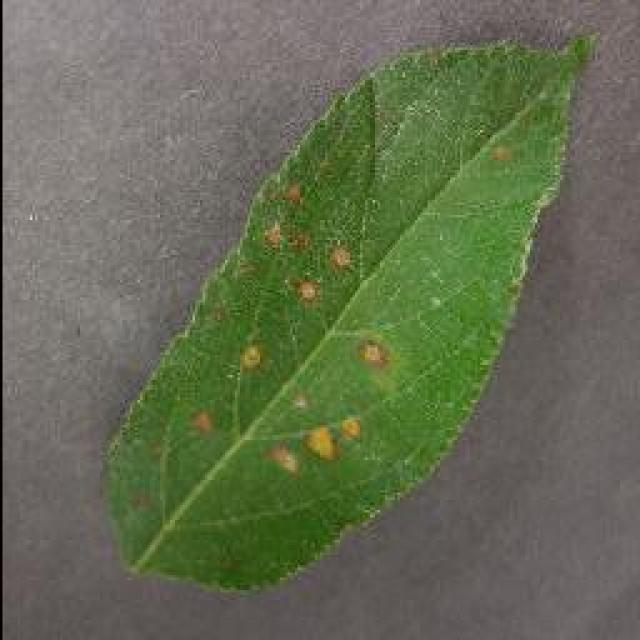apple scab disease: (100, 27, 598, 595)
